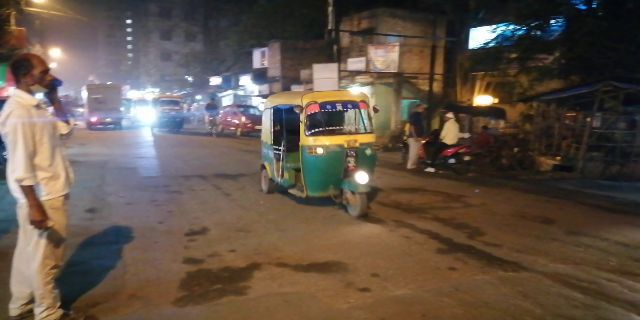Autorickshaw: (259, 87, 384, 209), (150, 94, 187, 131)
